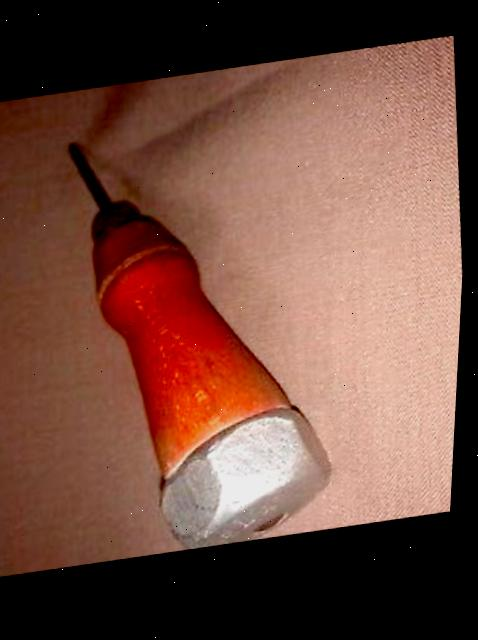ice pick: (51, 109, 356, 567)
